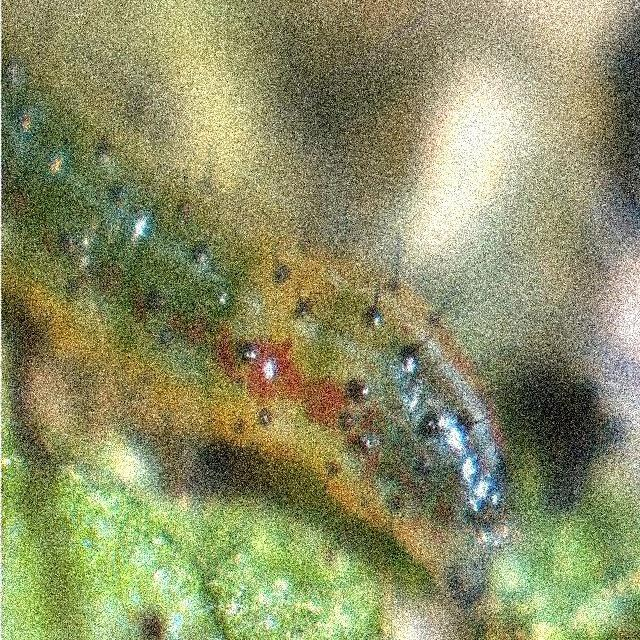worm: (3, 57, 515, 618)
